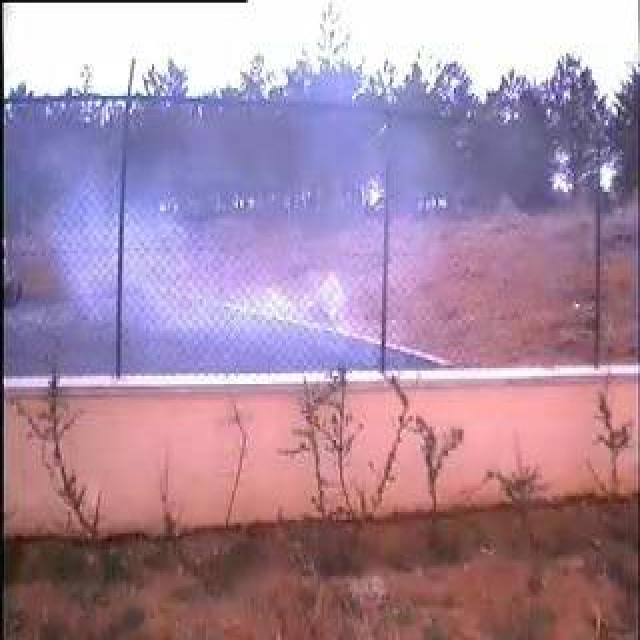Smoke: (120, 97, 386, 380)
